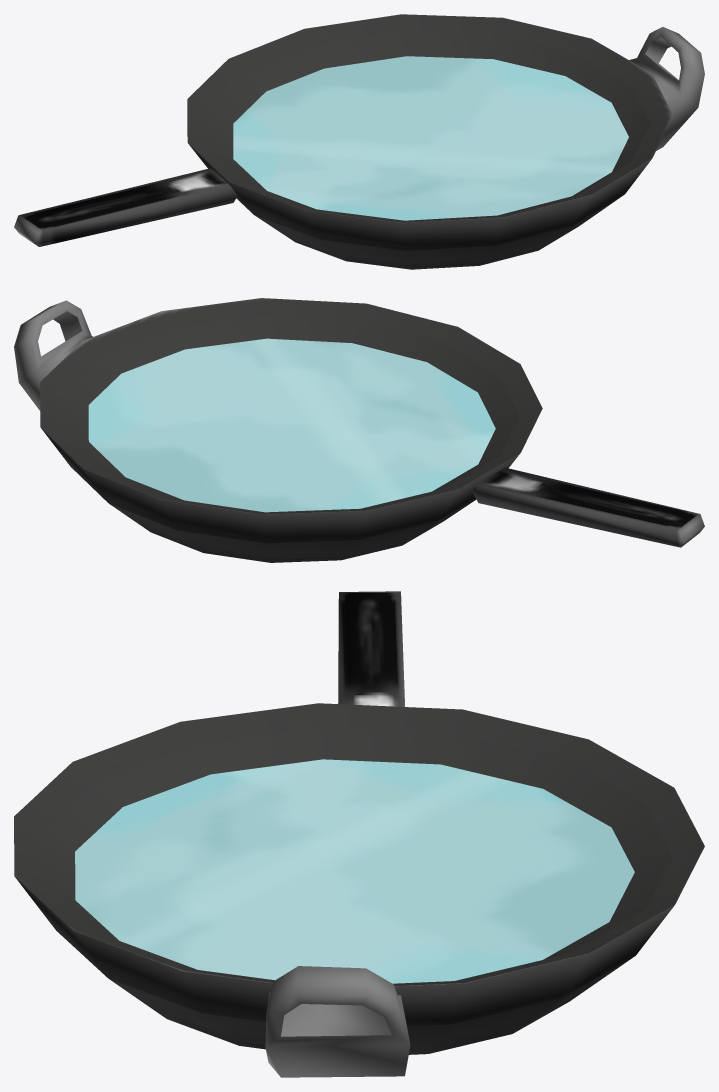
The model's file is Wokpan_Liquid.fbx.
The picture shows the model from 3 angles, top to bottom: view 1: azimuth 30°, elevation 25°; view 2: azimuth 150°, elevation 25°; view 3: azimuth 270°, elevation 25°; orthographic projection. The views are drawn at different scales.
Visible parts, largest first — view 1: Wokpan; view 2: Wokpan; view 3: Wokpan.
Part boxes in pixels (<box>): Wokpan: <box>14,14,704,269</box>; Wokpan: <box>14,298,704,562</box>; Wokpan: <box>14,591,704,1077</box>.
Size of the model in its own units: 86.2 by 14.34 by 55.5.
